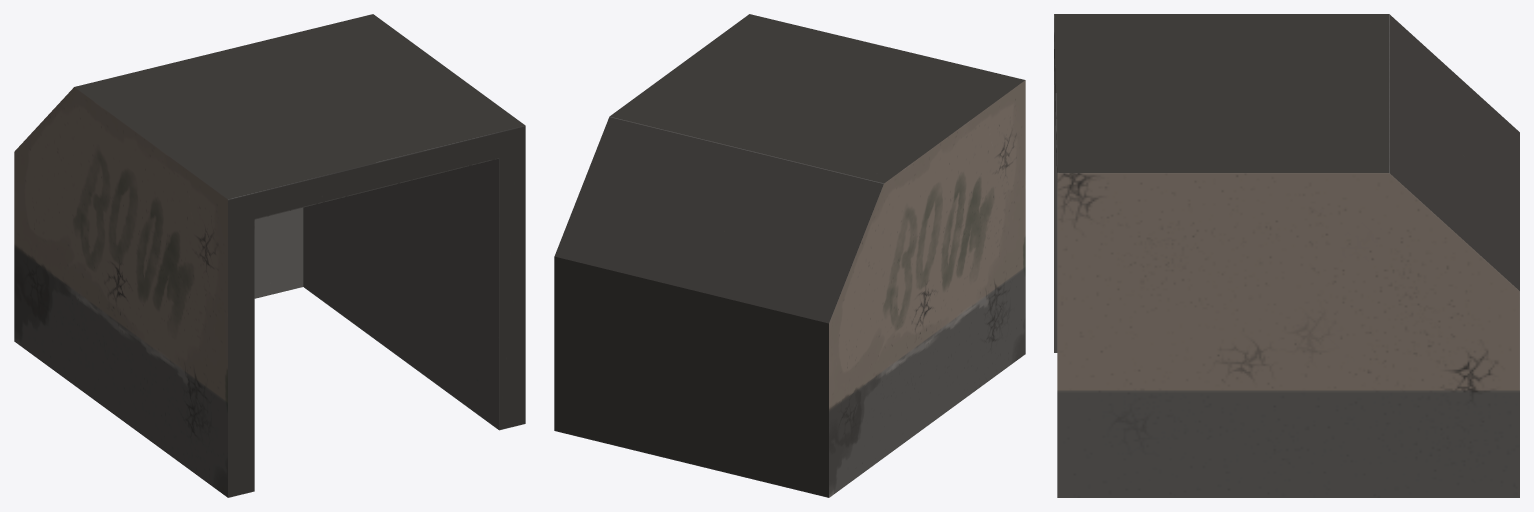
Rendered from ENTRANCE fbx.fbx.
3 views of the same model, side by side, from view 1: azimuth 30°, elevation 25°; view 2: azimuth 150°, elevation 25°; view 3: azimuth 270°, elevation 25° (orthographic). The views are drawn at different scales.
Parts seen in each view (by area): view 1: Cube.001; view 2: Cube.001; view 3: Cube.001.
Part boxes in pixels (box(x1,y1,x2,y2)): Cube.001: box(14, 14, 525, 497); Cube.001: box(554, 14, 1025, 497); Cube.001: box(1054, 14, 1519, 497).
Size of the model in its own units: 679 by 647 by 840.
1 material, 1 textured.
